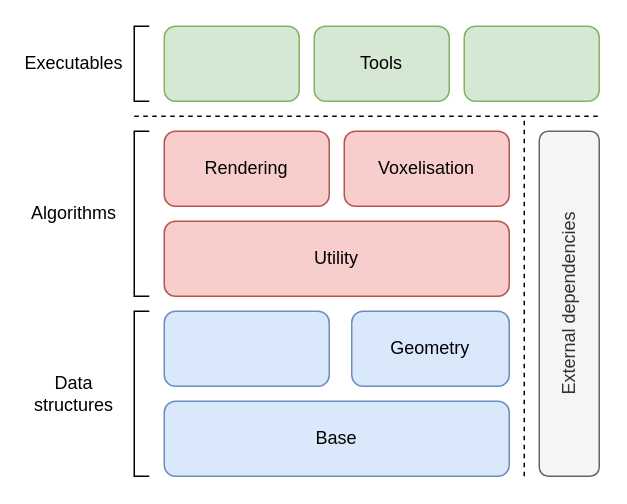
Image size: 627x504. Some labels were removed from this diagram. The centre of each missing label's shape, as x and y in pixels:
"Demos" goes at point (531, 63).
"Storage" goes at point (246, 348).
"Tests" goes at point (231, 63).
